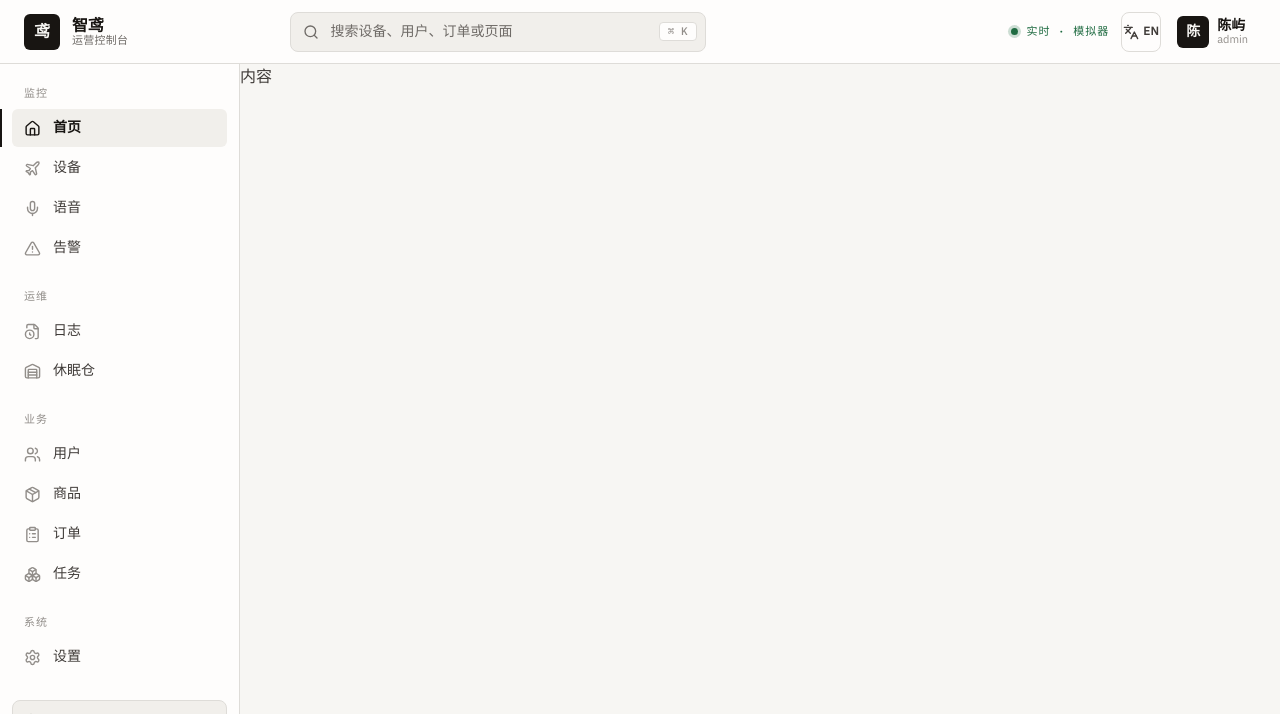
Test: AppShell command palette › reports when nothing matches
Click the button "搜索设备、用户、订单或页面 ⌘ K". click: [498, 32]
box: [290,12,706,52]
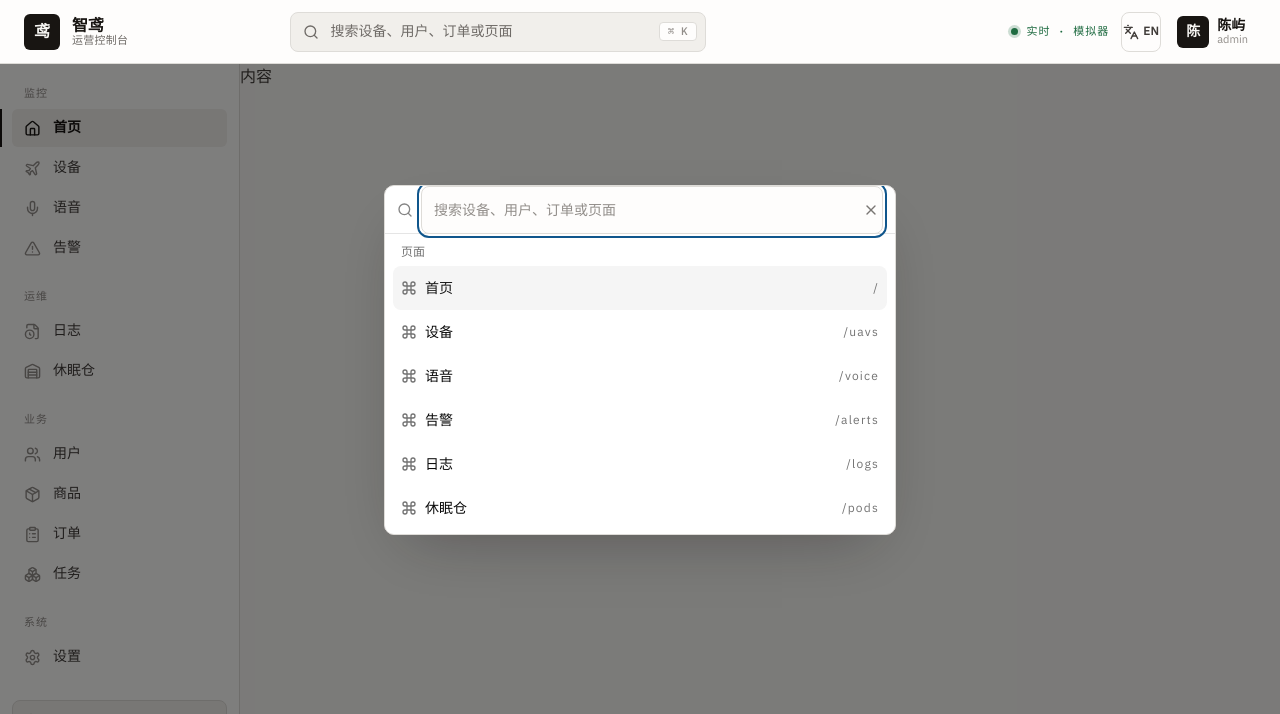
Type "zzzz-no-such-record" into the dropdown. click: [652, 210]
box: [421,186,883,234]
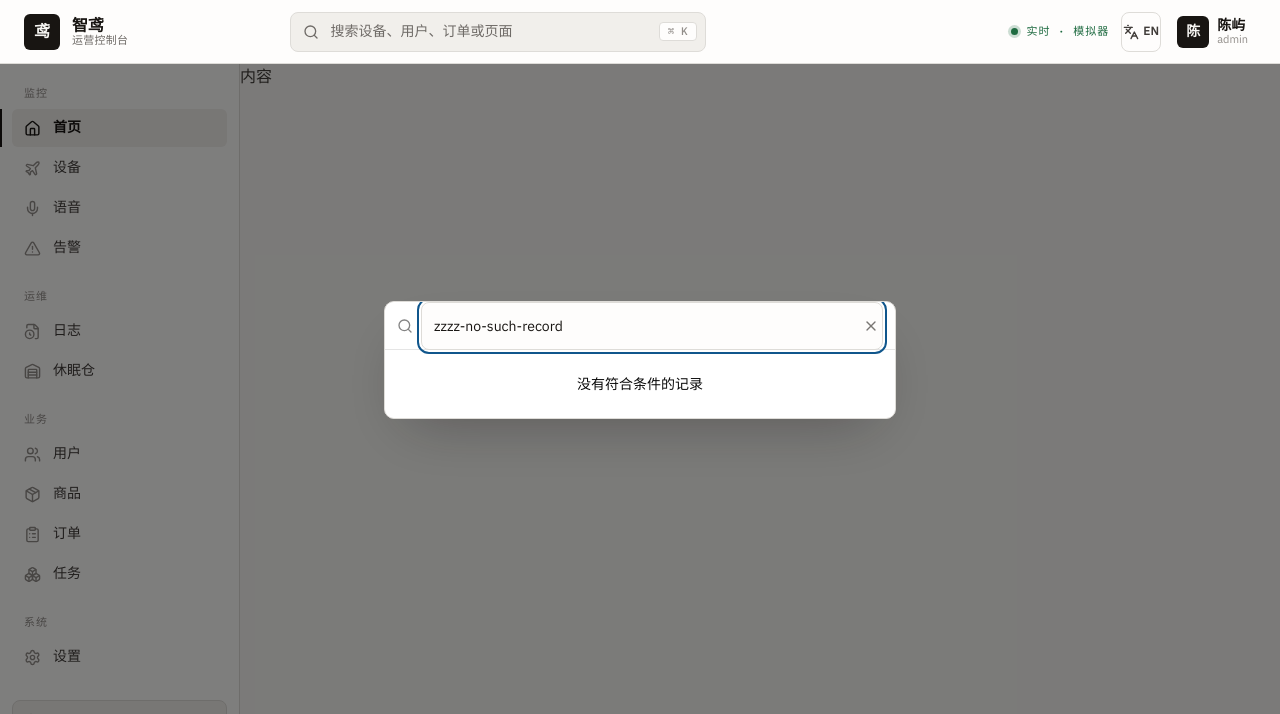
Expected: the text "没有符合条件的记录" is shown, [577,375,703,393]
